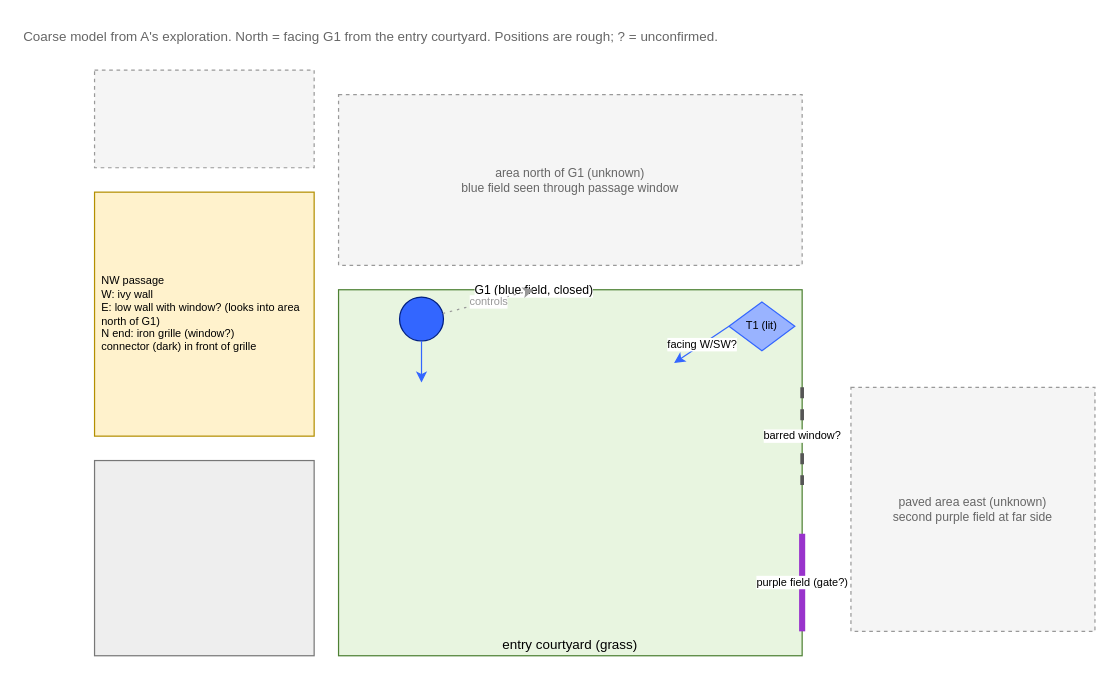
The diagram is 1116 pixels wide and 677 high, and some of its shapes have lost their labels. Each missing label, with the centre of its shape:
"beyond grille (unknown) red-lit tripod: connector?" belongs at point 203,118.
"R1" belongs at point 420,318.
"W/SW covered paved walk with arched barred opening (entry path?)" belongs at point 203,557.
